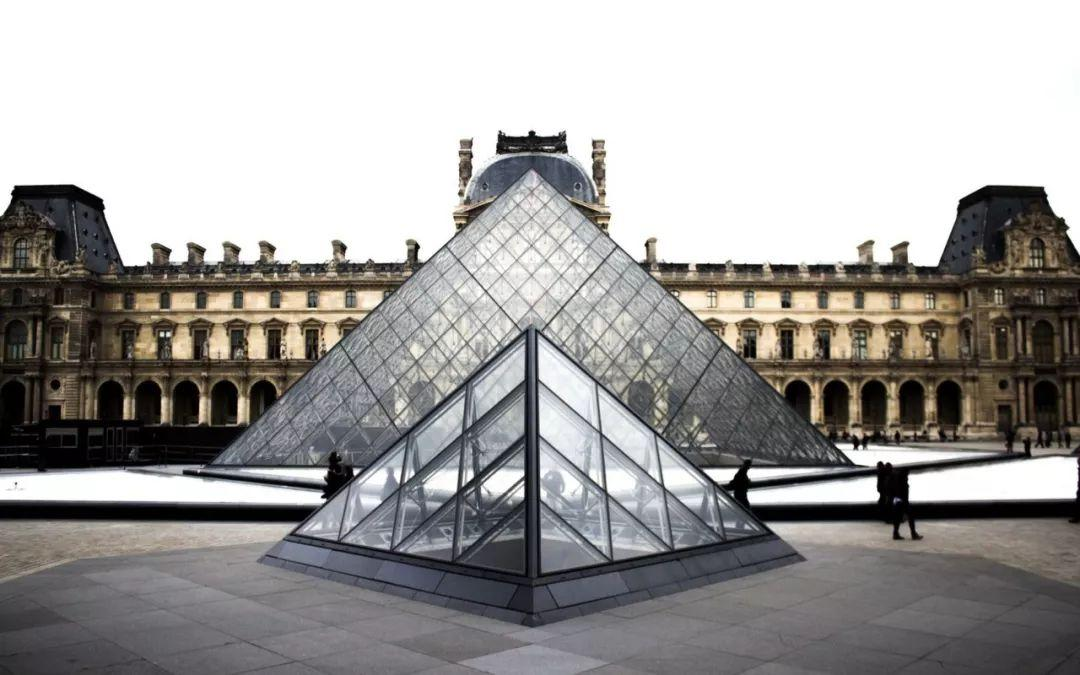buildings: (206, 142, 829, 604), (18, 135, 497, 465), (789, 171, 1064, 463)
